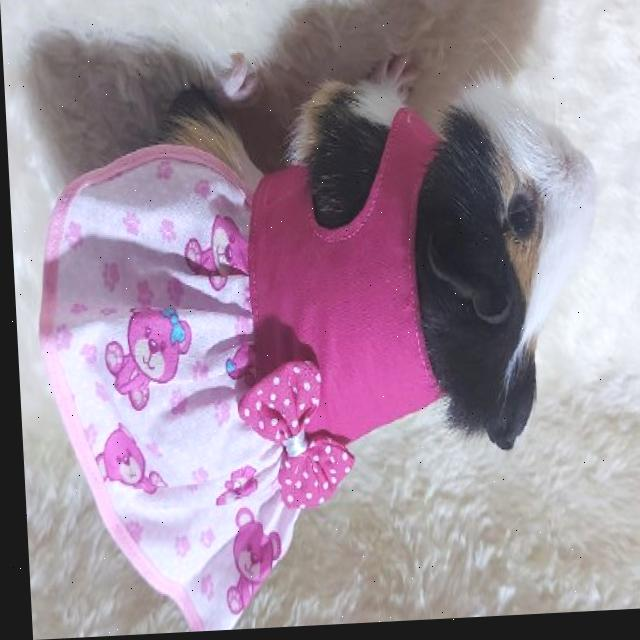guinea pig: (162, 69, 606, 474)
